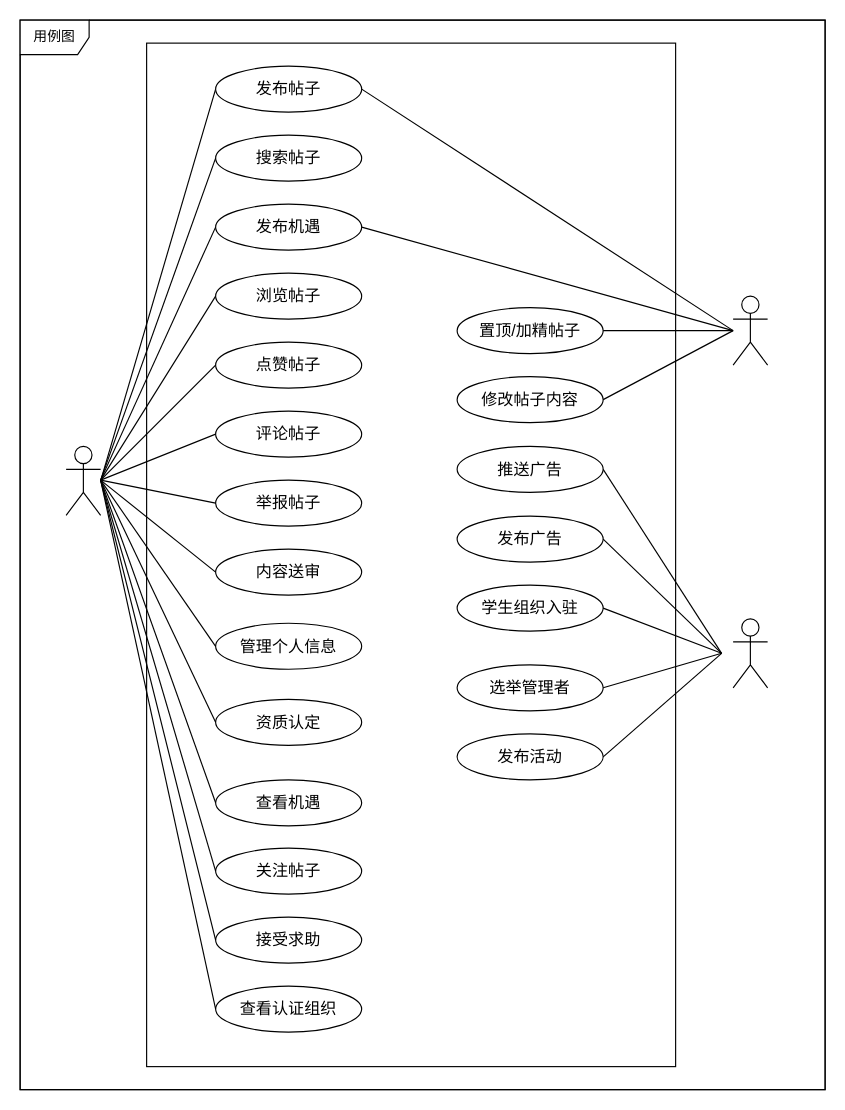
The diagram is 845 pixels wide and 1110 high, and some of its shapes have lost their labels. Each missing label, with the centre of its shape:
"创作用户" goes at pixel 750 330.
"合作机构与 高校组织" goes at pixel 750 653.
"学生用户" goes at pixel 83 480.
